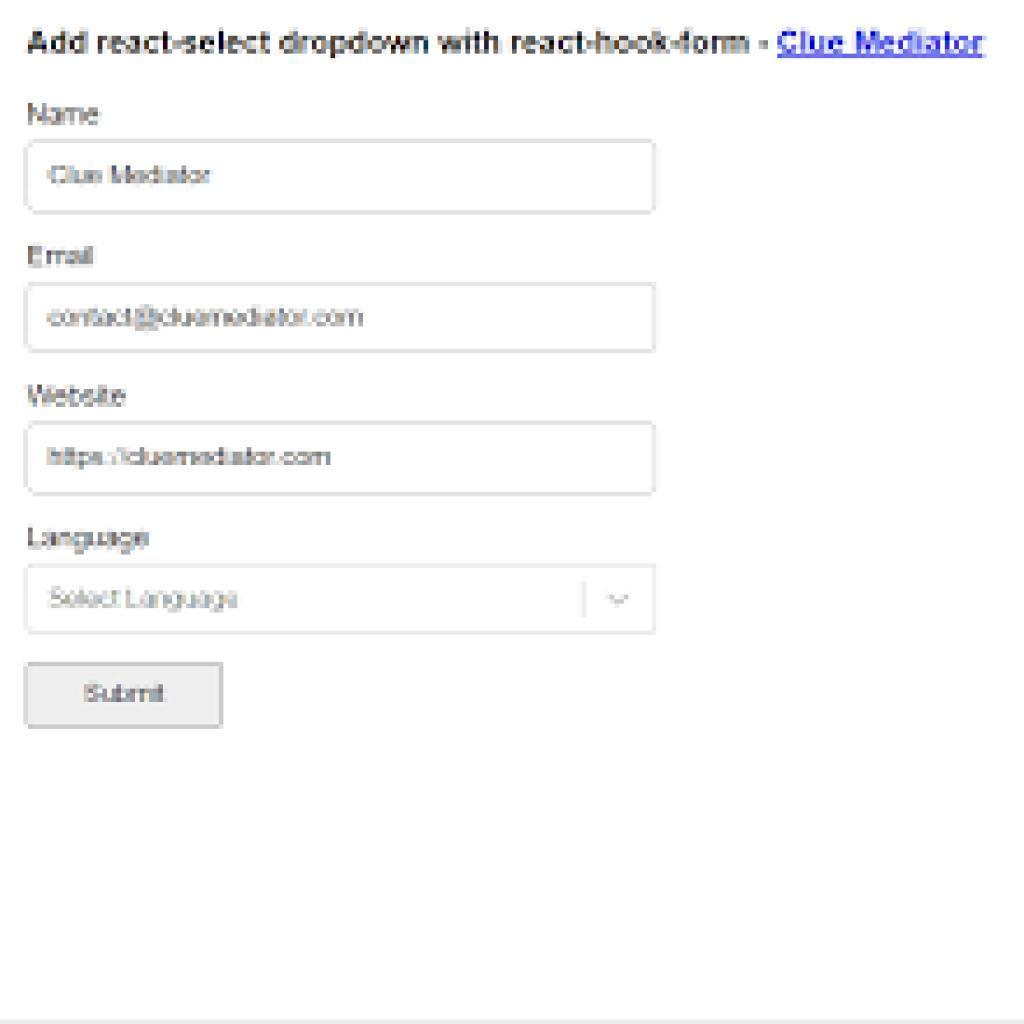button: (23, 666, 224, 729)
dropdown: (24, 558, 654, 635)
input: (25, 140, 658, 213), (29, 283, 652, 353), (34, 426, 655, 496)
